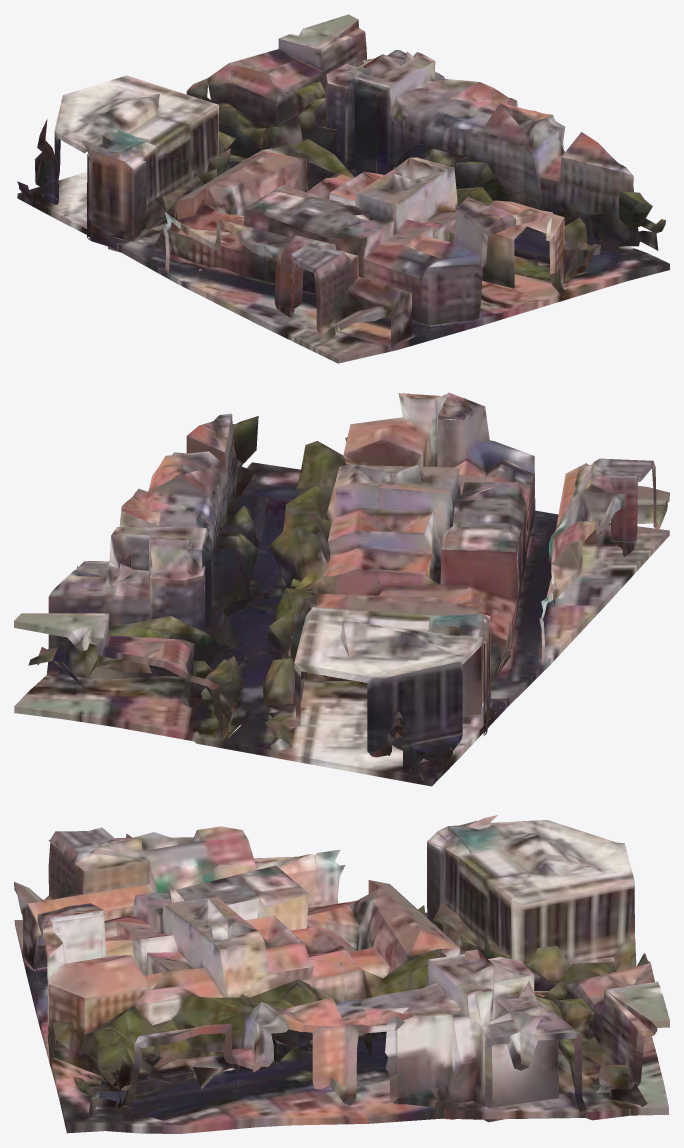
3 views of the same model, one above another, from view 1: azimuth 30°, elevation 25°; view 2: azimuth 150°, elevation 25°; view 3: azimuth 270°, elevation 25° (orthographic). The views are drawn at different scales.
Parts seen in each view (by area): view 1: Mesh_0; view 2: Mesh_0; view 3: Mesh_0.
Part boxes in pixels (x1,y1,x2,y2): Mesh_0: [17, 14, 669, 363]; Mesh_0: [14, 392, 669, 786]; Mesh_0: [14, 815, 669, 1133].
Size of the model in its own units: 134 by 38.02 by 165.
1 material, 1 textured.
